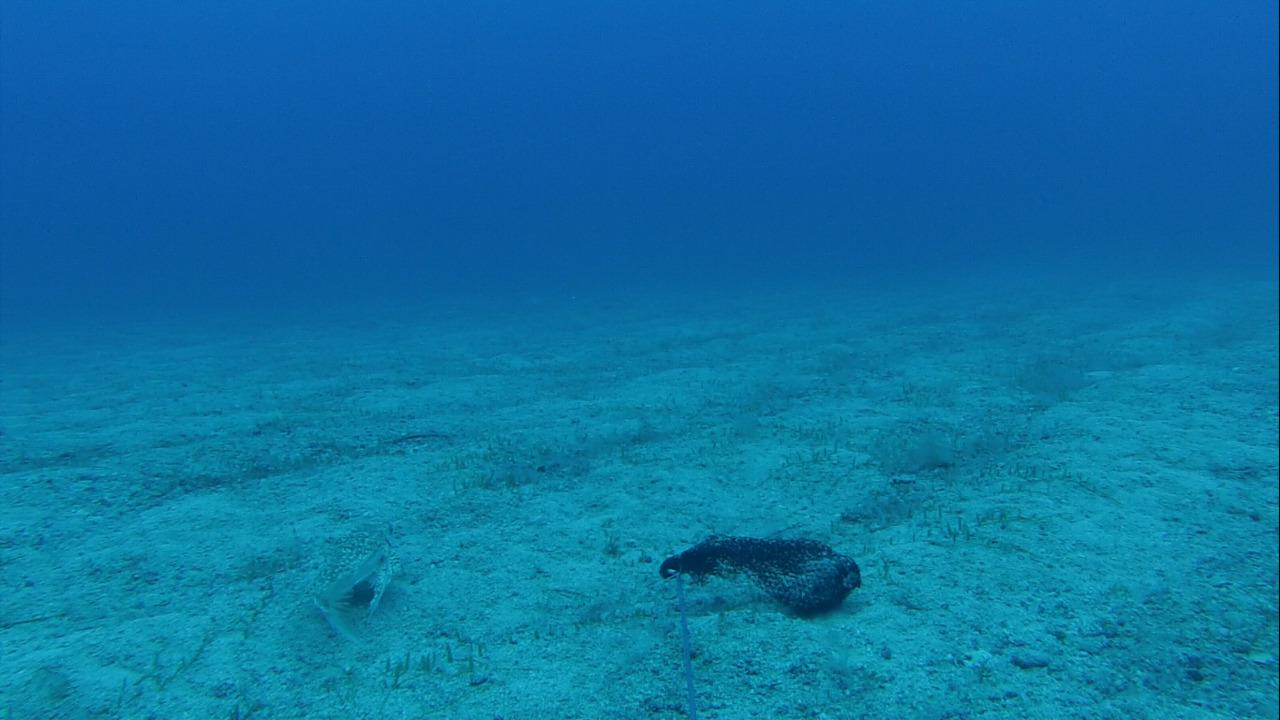dactylopterus: (301, 516, 413, 653)
